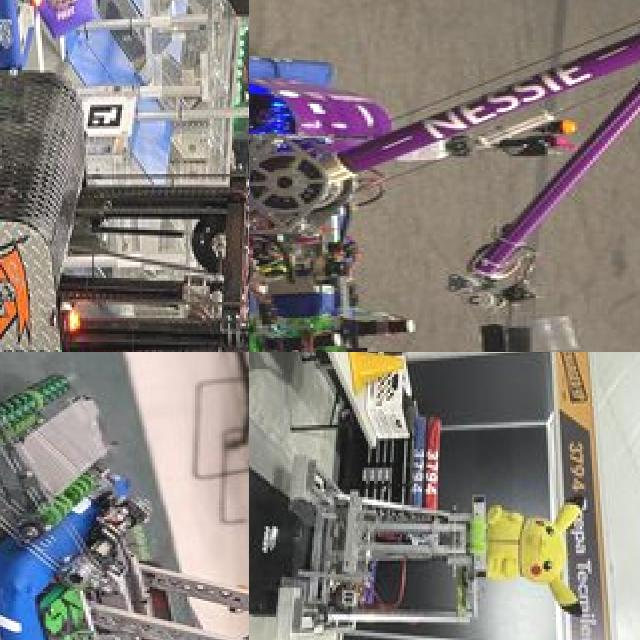FRC-Robots: (249, 3, 640, 352), (0, 7, 249, 352), (0, 361, 249, 640), (272, 432, 491, 640), (0, 0, 131, 86)
